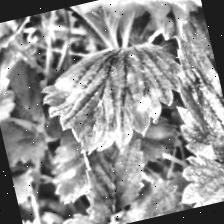Powdery Mildew Leaf: (34, 34, 200, 169)
